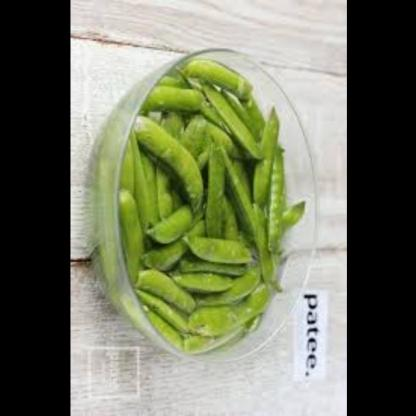peas: (132, 69, 302, 361)
